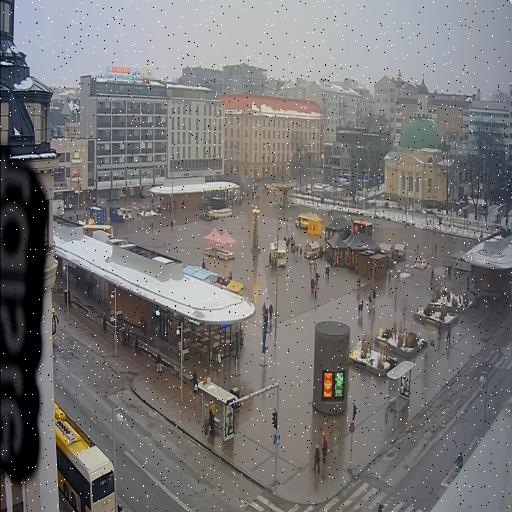Bus: (51, 408, 115, 511), (52, 303, 58, 344)
